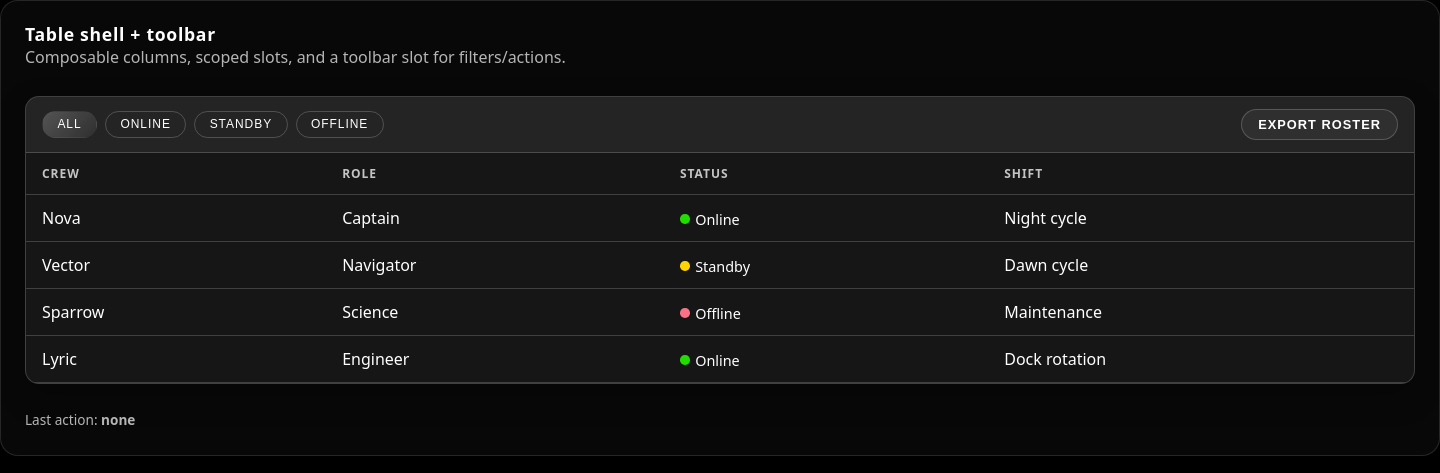
Test: TableShellDemo › records export actions using the current filter
The width and height of the screenshot is (1440, 473).
What coordinates should you click on to do the following:
click the button "Offline"
I would click on:
 (340, 124)
Its box is [296,110,384,138].
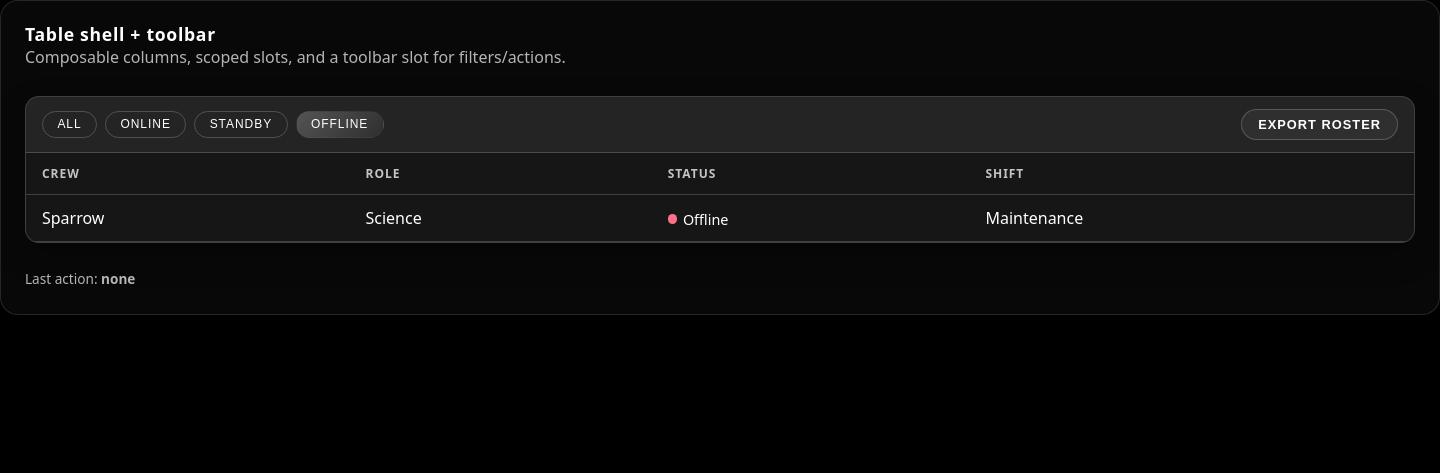
What coordinates should you click on to do the following:
click the button "Export roster"
I would click on:
 (1320, 124)
Its box is [1241,109,1398,140].
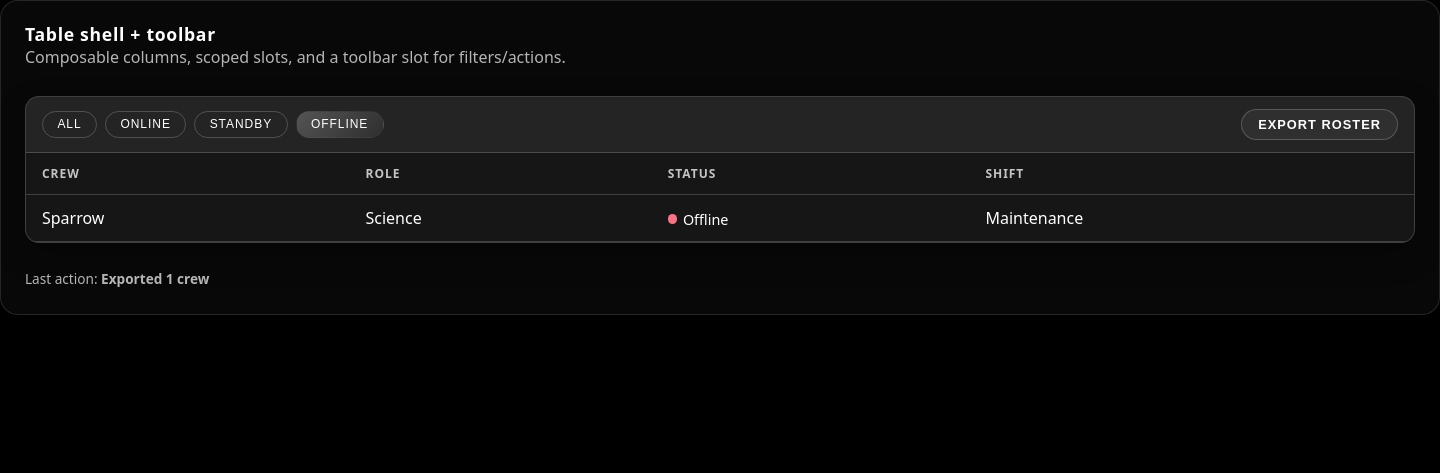
Check: the text "Exported 1 crew" is shown, box [101,269,209,288]
